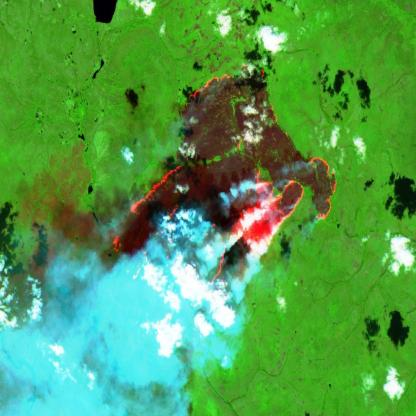fire: (109, 62, 338, 315)
